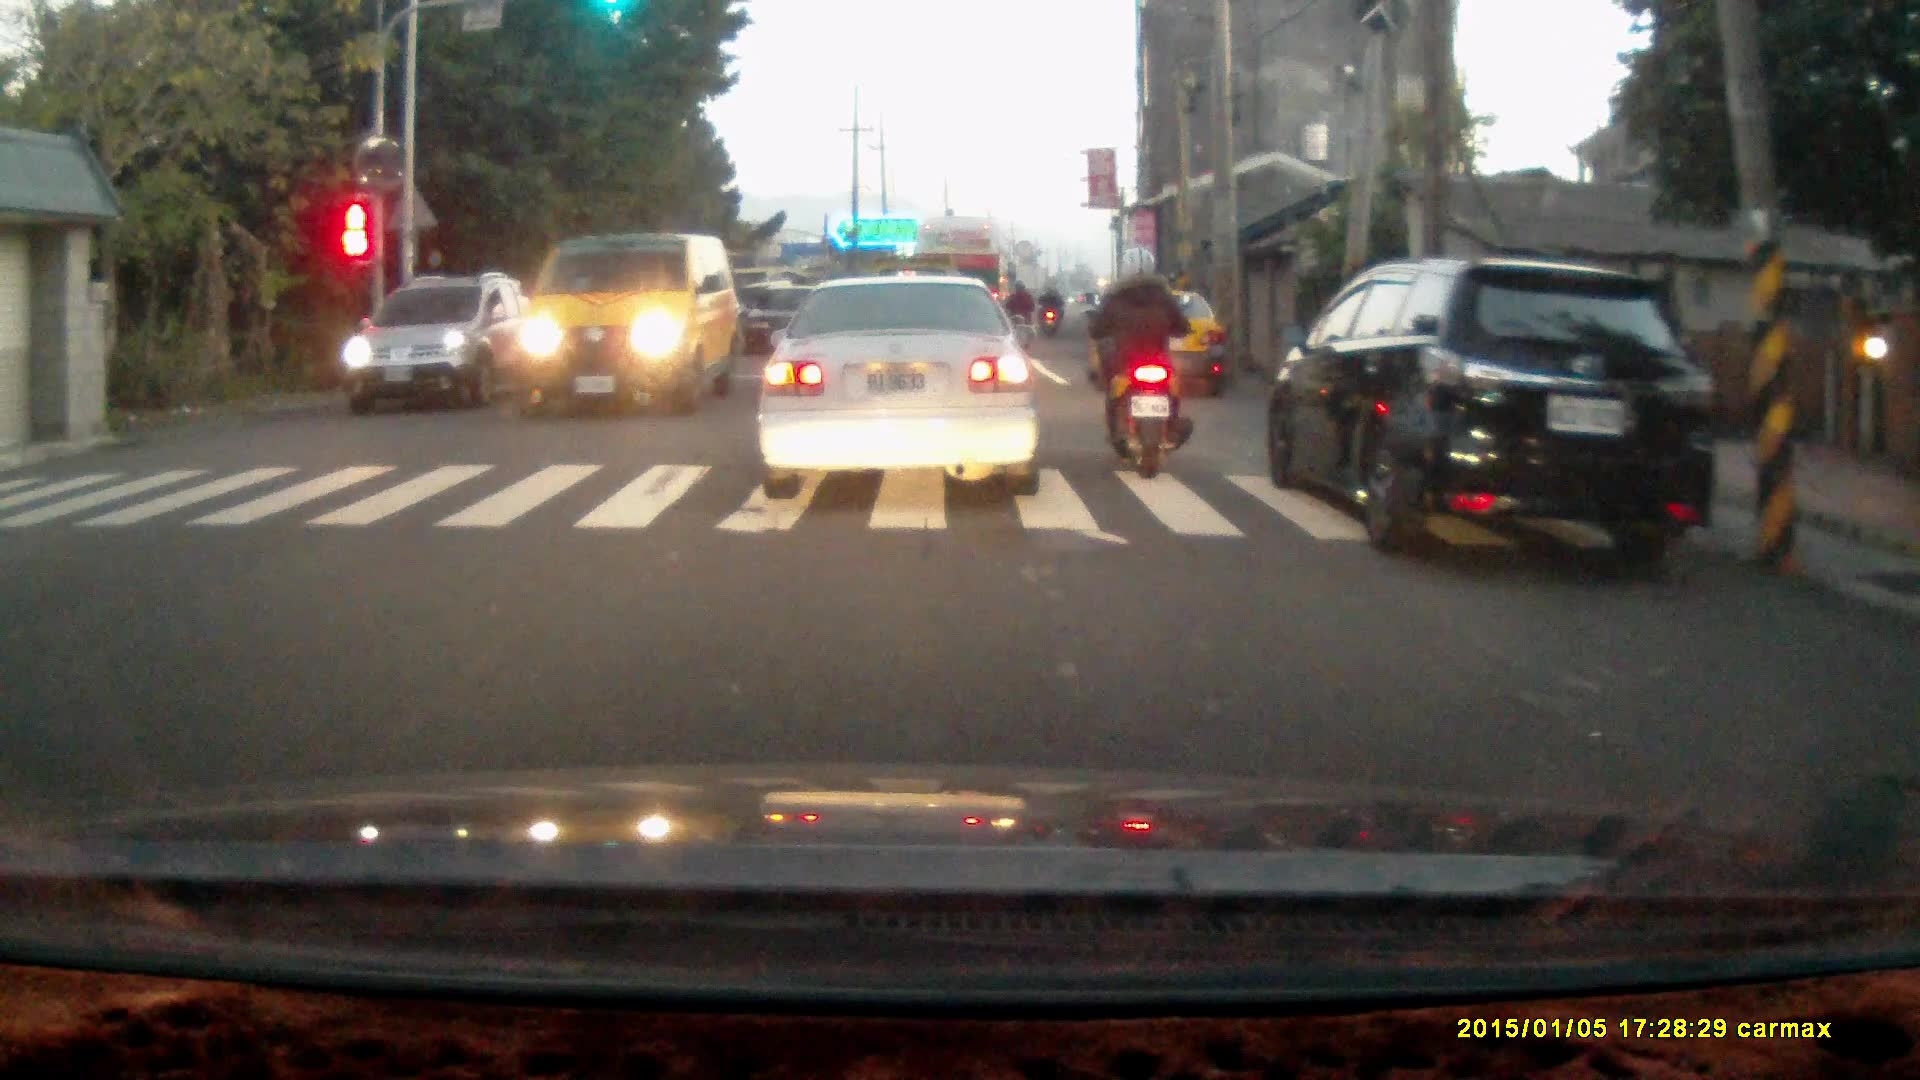rider: (1084, 243, 1190, 479)
vehicle: (1274, 261, 1724, 563), (760, 270, 1047, 497), (507, 235, 734, 426), (340, 274, 529, 408), (1091, 290, 1230, 410), (911, 217, 1016, 352)
